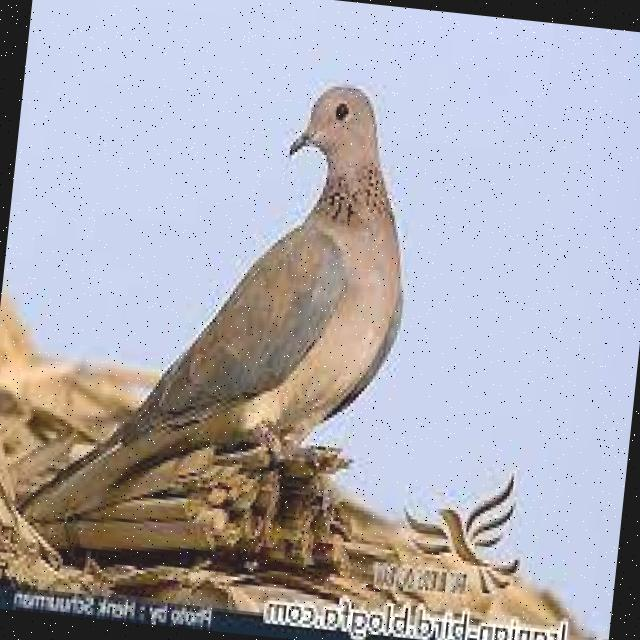dove: (22, 46, 431, 568)
